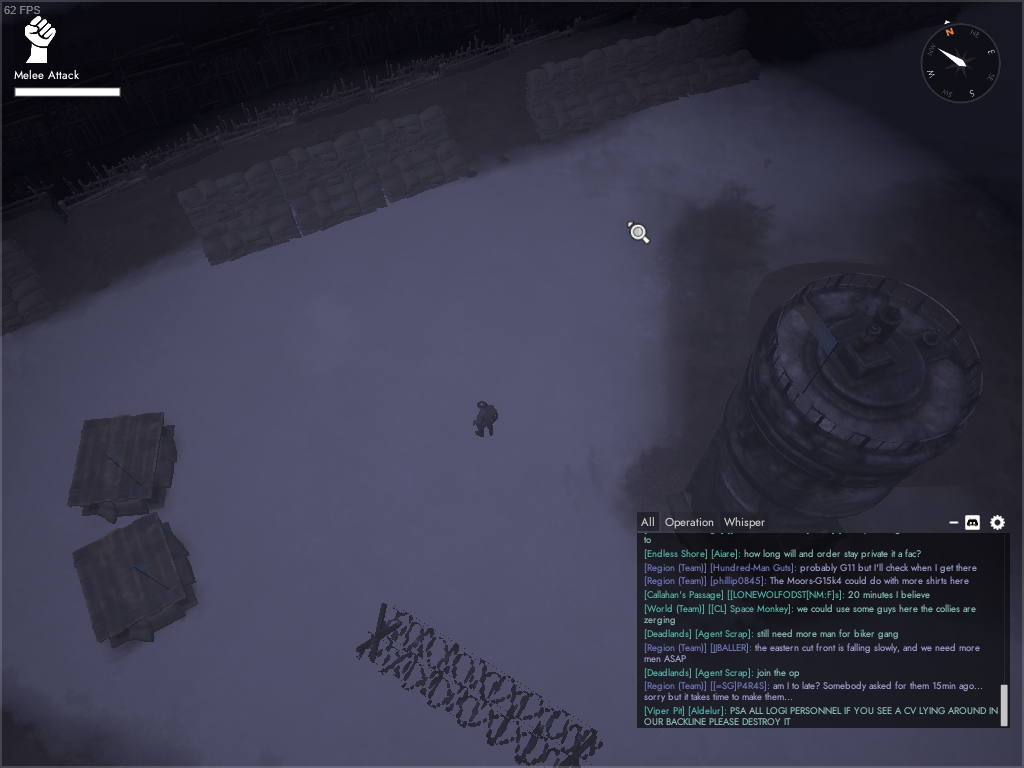observation_tower: (665, 272, 989, 551)
pillbox: (72, 511, 199, 649), (65, 411, 179, 524)
player: (472, 400, 498, 439)
sandbag: (173, 160, 302, 267), (522, 43, 649, 144), (270, 131, 389, 238), (633, 12, 763, 107), (355, 104, 470, 207), (1, 239, 59, 338)
wire: (354, 603, 606, 768)
